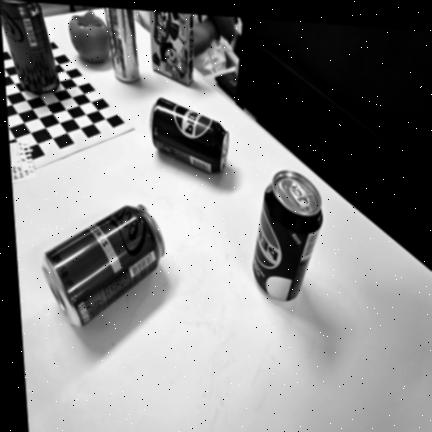can_coke_decaf: (42, 203, 166, 328)
can_pepsi: (149, 97, 229, 174)
can_pepsi_zero: (253, 169, 323, 301)
